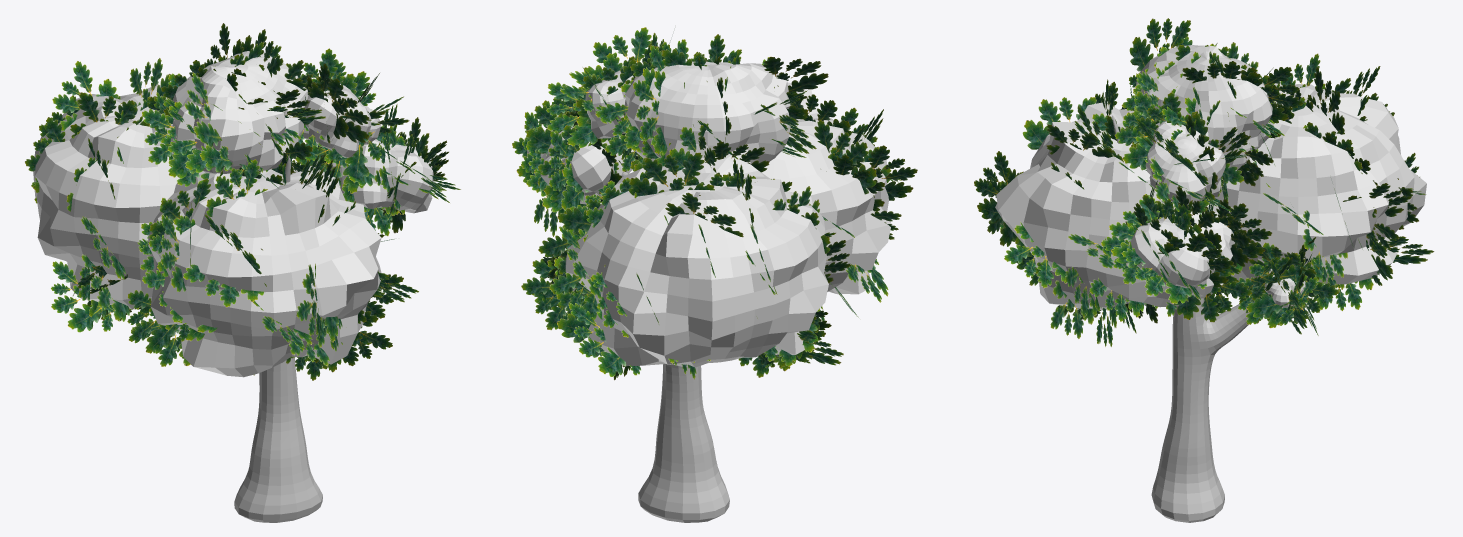
File: ldub_um_ob.fbx
3 views of the same model, side by side, from view 1: azimuth 30°, elevation 25°; view 2: azimuth 150°, elevation 25°; view 3: azimuth 270°, elevation 25° (orthographic). The views are drawn at different scales.
Parts seen in each view (by area): view 1: Сфера, Сфера|Плоскость|Dupli|, Куб; view 2: Сфера, Сфера|Плоскость|Dupli|, Куб; view 3: Сфера, Сфера|Плоскость|Dupli|, Куб.
Part boxes in pixels (x1,y1,x2,y2): Сфера: [33, 51, 433, 377]; Сфера|Плоскость|Dupli|: [25, 23, 460, 380]; Куб: [234, 157, 322, 522]; Сфера: [527, 61, 891, 367]; Сфера|Плоскость|Dupli|: [512, 27, 917, 380]; Куб: [622, 172, 729, 522]; Сфера: [995, 45, 1426, 309]; Сфера|Плоскость|Dupli|: [974, 18, 1434, 346]; Куб: [1112, 115, 1249, 522].
Bounding box in the file's own units: 2132 × 2581 × 2460.
